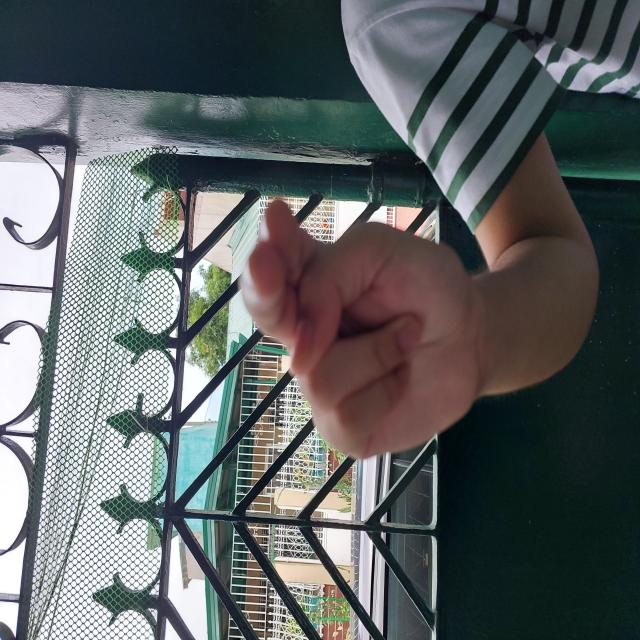N_TILDE: (205, 168, 526, 493)
